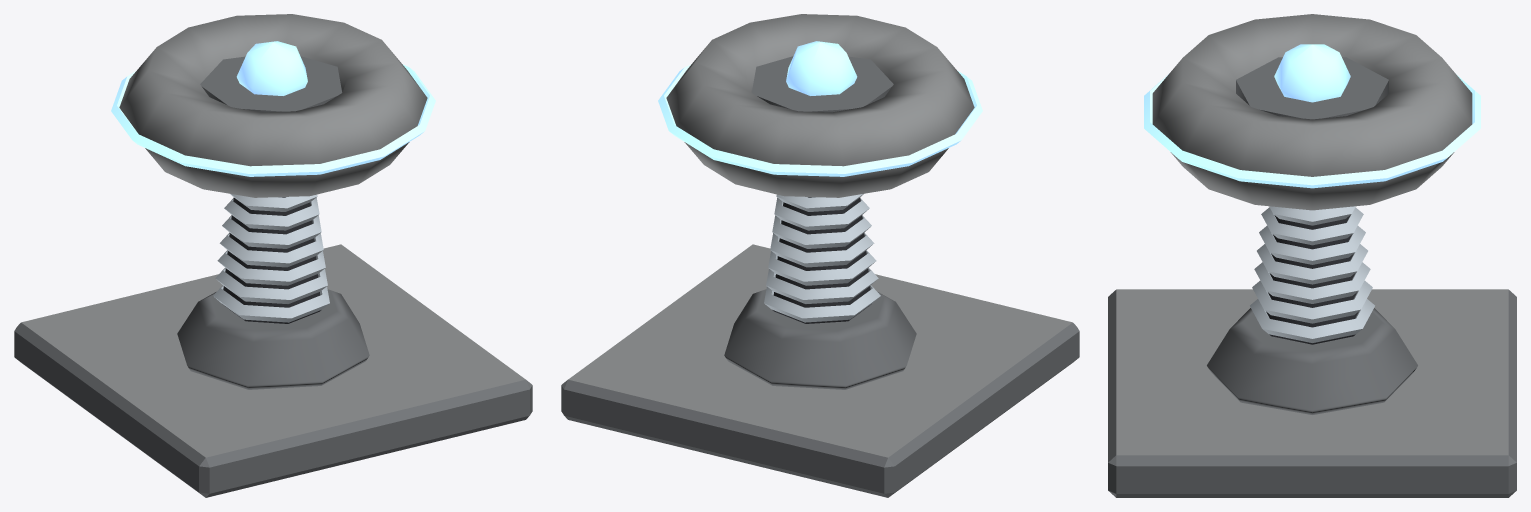
Rendered from R4X_AreaEMP_LOD1.glb.
3 views of the same model, side by side, from view 1: azimuth 30°, elevation 25°; view 2: azimuth 150°, elevation 25°; view 3: azimuth 270°, elevation 25° (orthographic). The views are drawn at different scales.
Parts seen in each view (by area): view 1: R4X_AreaEMP_LOD1; view 2: R4X_AreaEMP_LOD1; view 3: R4X_AreaEMP_LOD1.
Boxes of the visible parts, <box> form: R4X_AreaEMP_LOD1: <box>14,14,532,497</box>; R4X_AreaEMP_LOD1: <box>561,14,1079,497</box>; R4X_AreaEMP_LOD1: <box>1108,14,1516,497</box>.
Size of the model in its own units: 0.52 by 0.52 by 0.52.
